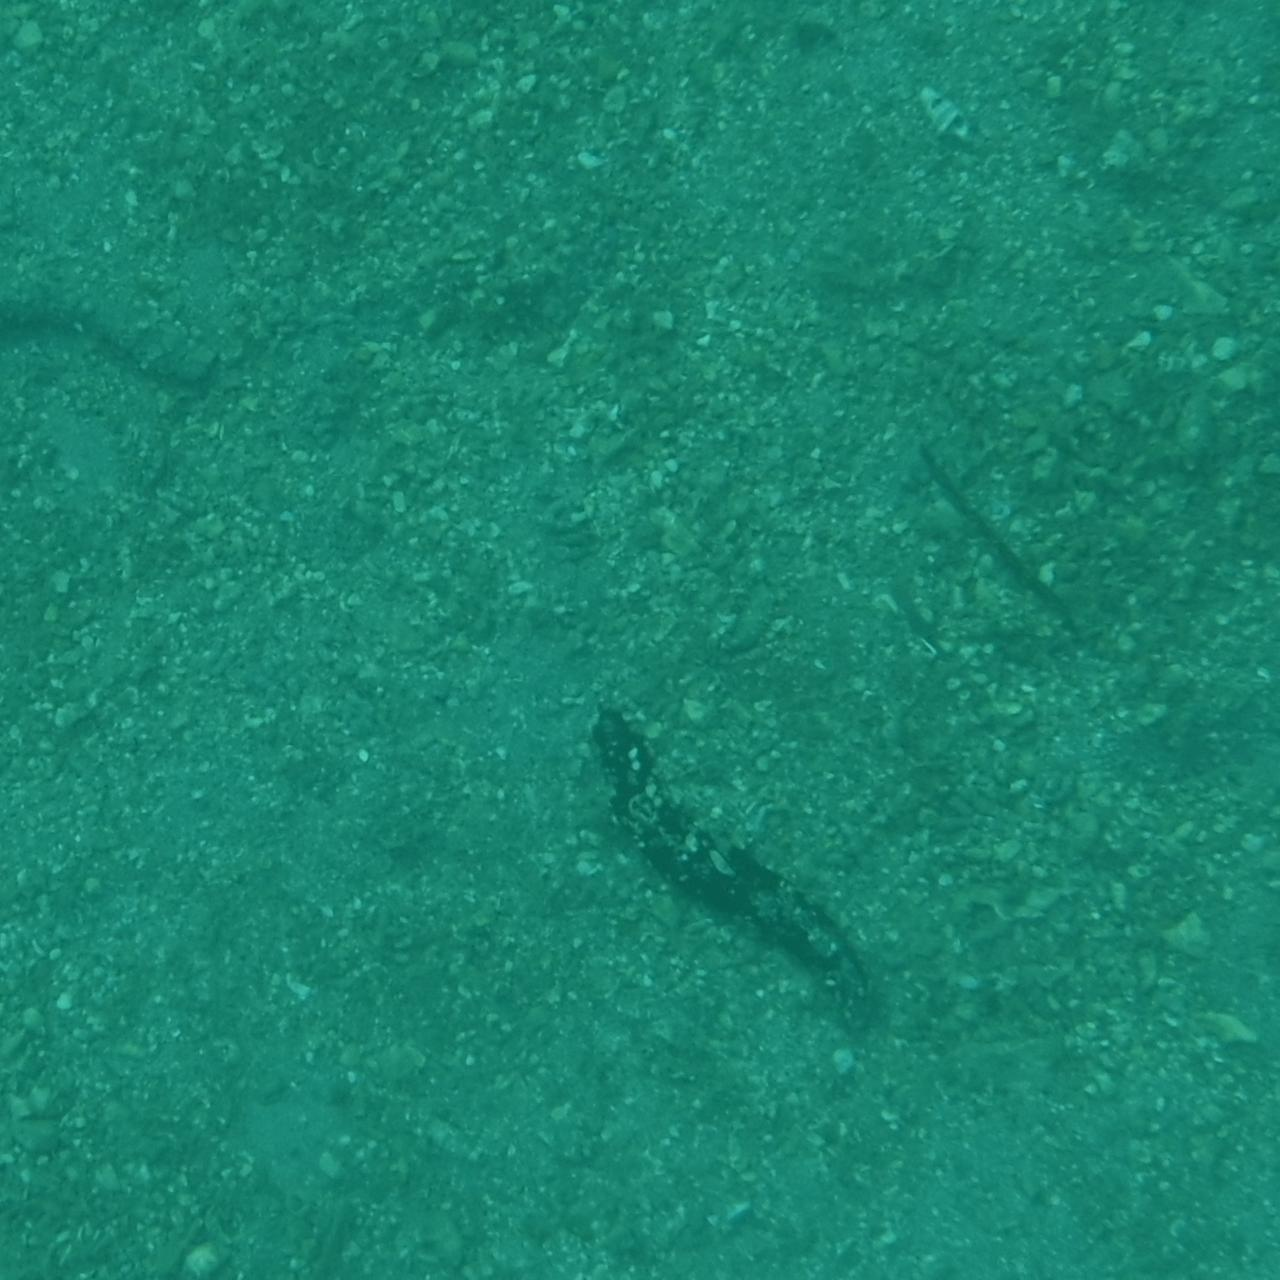Holothuria tubulosa: (572, 696, 884, 1022), (949, 1121, 1214, 1280), (1167, 123, 1280, 483), (0, 234, 238, 403), (1171, 508, 1280, 846), (0, 595, 219, 733), (1141, 1081, 1280, 1280), (168, 1063, 294, 1280), (0, 0, 300, 91), (1221, 392, 1280, 818), (0, 343, 200, 456), (0, 0, 210, 75), (0, 0, 87, 154)
